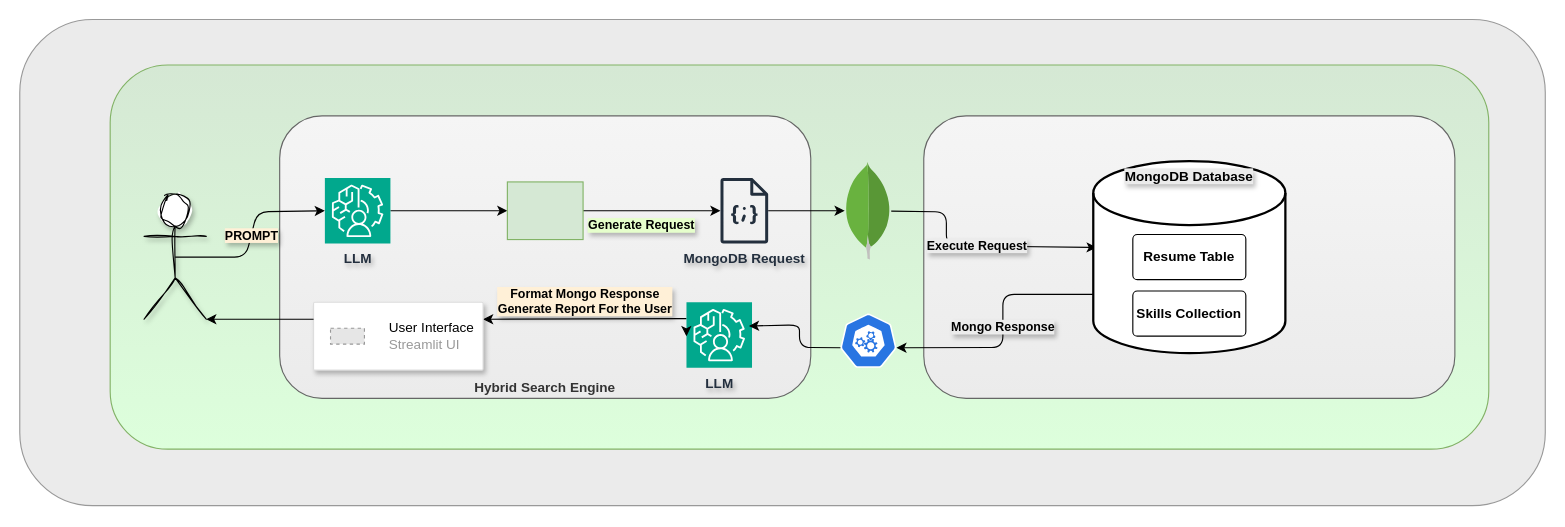
The diagram is 1565 pixels wide and 527 high, and some of its shapes have lost their labels. Grey dashed boxes stand in for pictures. Each missing label, with the centre of its shape:
"LLM call" goes at pixel 868 340.
"Skills Extraction" goes at pixel 544 210.
"User" goes at pixel 175 258.
